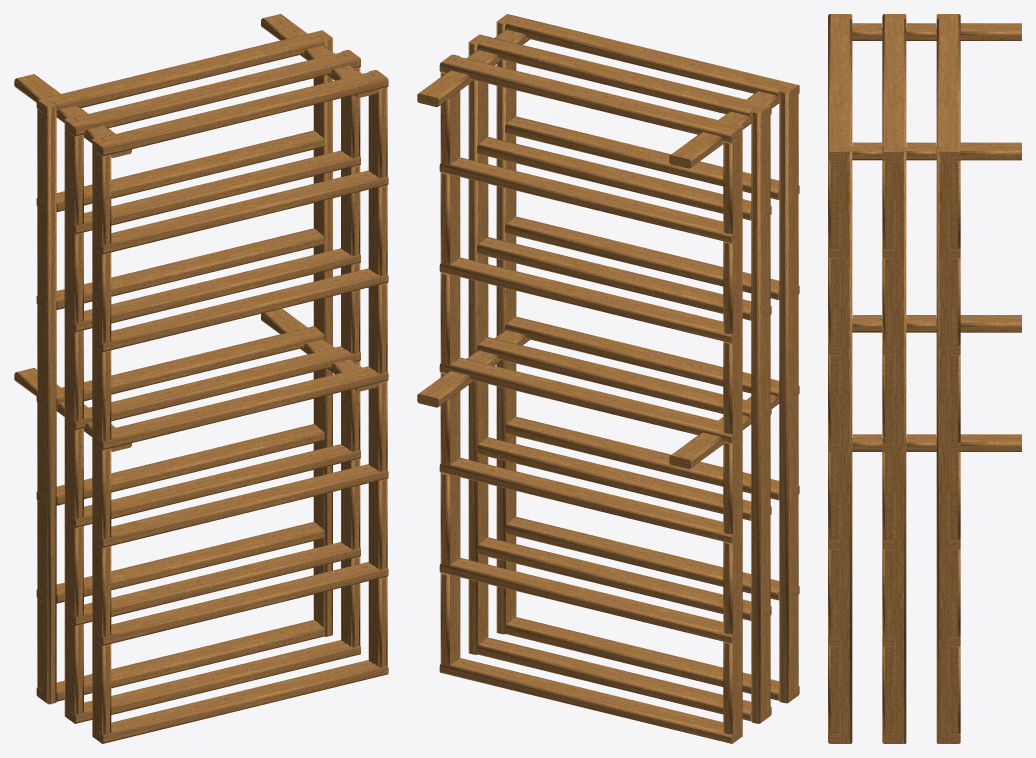
The model's file is VCKA0080.glb.
The picture shows the model from 3 angles, left to right: view 1: azimuth 30°, elevation 25°; view 2: azimuth 150°, elevation 25°; view 3: azimuth 270°, elevation 25°; orthographic projection. The views are drawn at different scales.
Visible parts, largest first — view 1: H Bar Champagne 32.019; view 2: H Bar Champagne 32.019; view 3: H Bar Champagne 32.019.
Part boxes in pixels (x1,y1,x2,y2): H Bar Champagne 32.019: (14, 14, 388, 743); H Bar Champagne 32.019: (417, 14, 799, 743); H Bar Champagne 32.019: (828, 14, 1021, 743).
Size of the model in its own units: 0.406 by 0.812 by 0.241.
2 materials, 2 textured.
